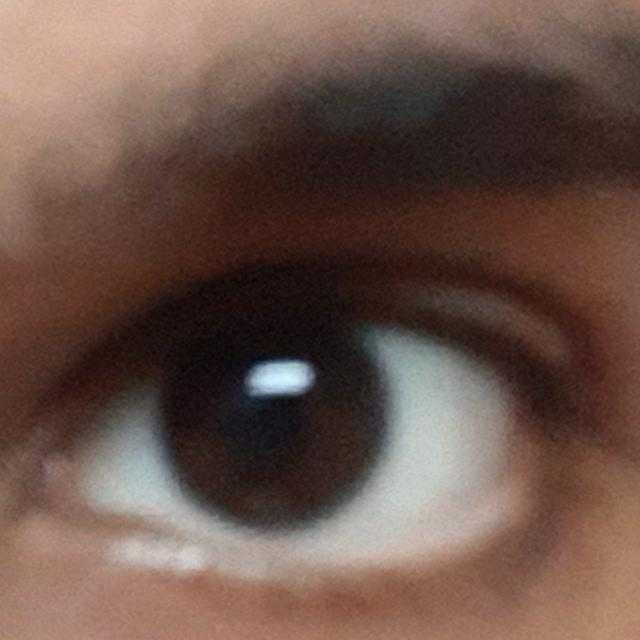eye: (71, 310, 522, 560)
iris: (160, 324, 390, 532)
